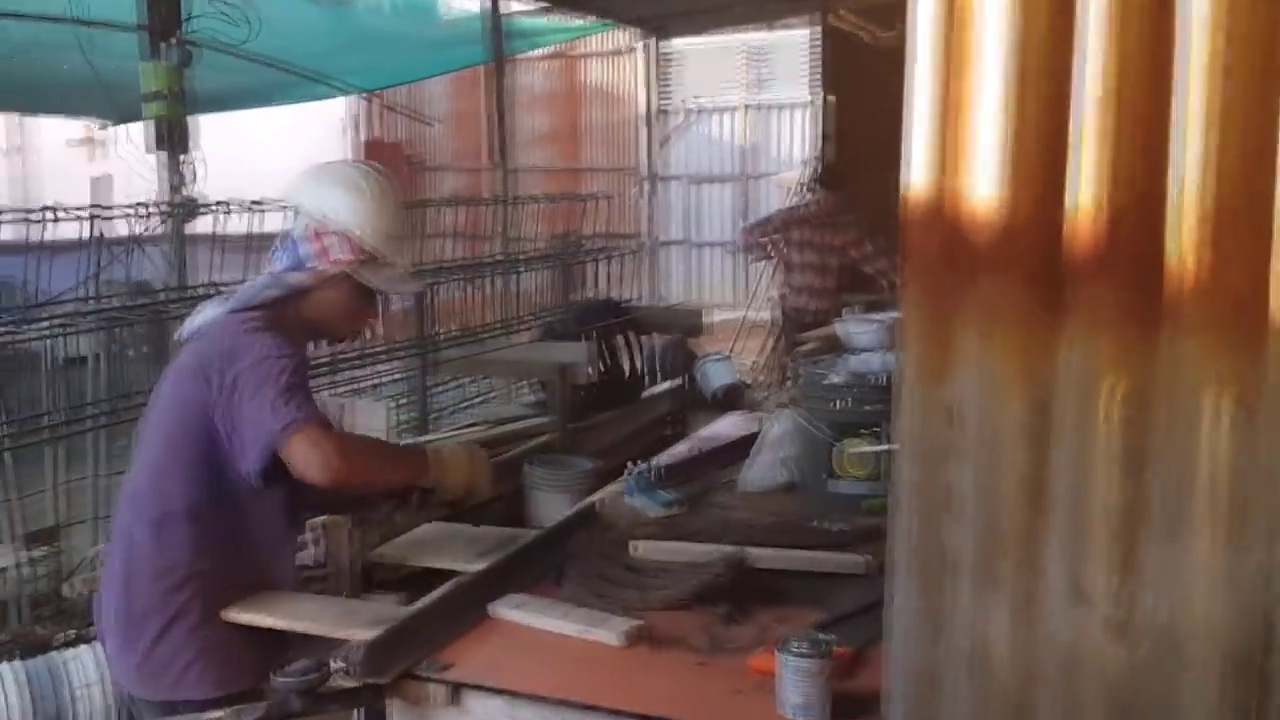helmet: (278, 166, 405, 255)
helmet-off: (805, 164, 866, 218)
helmet-on: (250, 162, 415, 356)
person: (93, 156, 499, 720), (740, 162, 902, 353)
